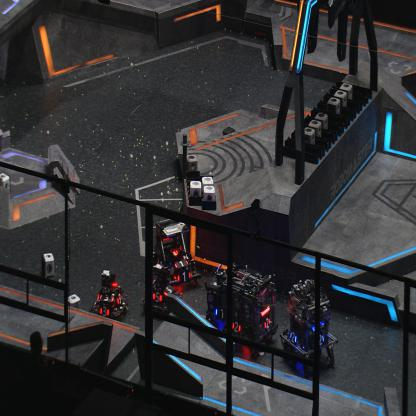car: (279, 278, 337, 374), (222, 264, 278, 356), (151, 217, 202, 289), (139, 262, 182, 316), (204, 266, 242, 327), (90, 268, 130, 321)
